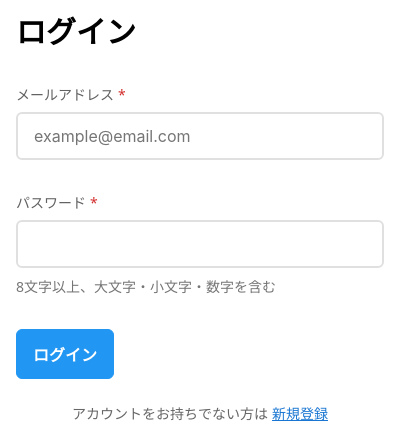
LoginPage Component › should show validation error when password is too short
This screenshot has width=401, height=438.
Type "test@example.com" into the field labelled "メールアドレス*".
click(200, 136); type("test@example.com")  # box [16, 112, 384, 160]
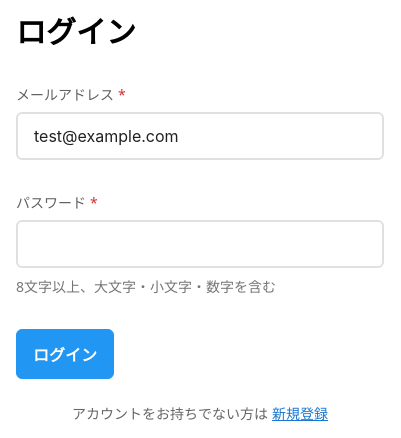
Type "Pass1" into the password field labelled "パスワード*".
click(200, 244); type("Pass1")  # box [16, 220, 384, 268]
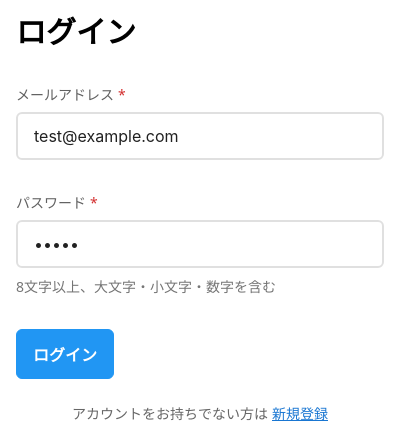
Click the button "ログイン".
click(65, 354)  # box [16, 329, 114, 379]
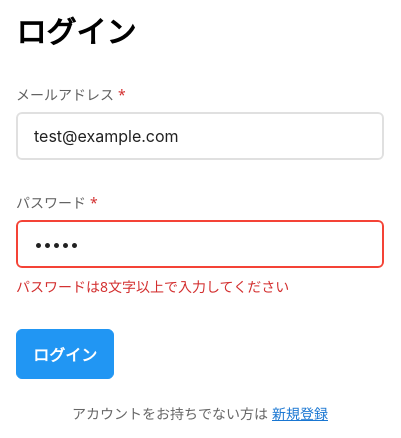
expect the text "パスワードは8文字以上で入力してください" is shown: met, box [16, 277, 289, 296]
